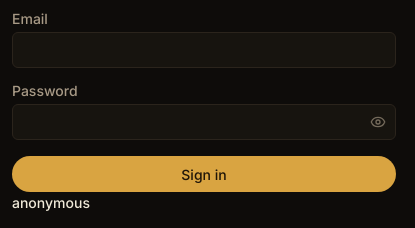
Scenario: login › stores the session and exposes the user
Step 1. Type "s@test.edu" into the field labelled "Email" → (204, 50), box [12,32,396,68]
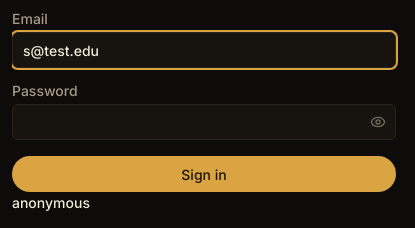
Step 2. Type "password123" into the password field labelled "Password" → (204, 122), box [12,104,396,140]
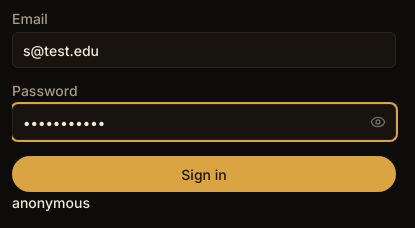
Step 3. Click the button "Sign in" → (204, 174), box [12,156,396,192]
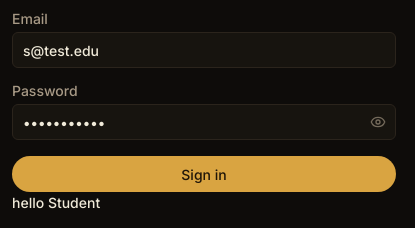
Check: the text "hello Student" is shown, box [12,194,100,211]
